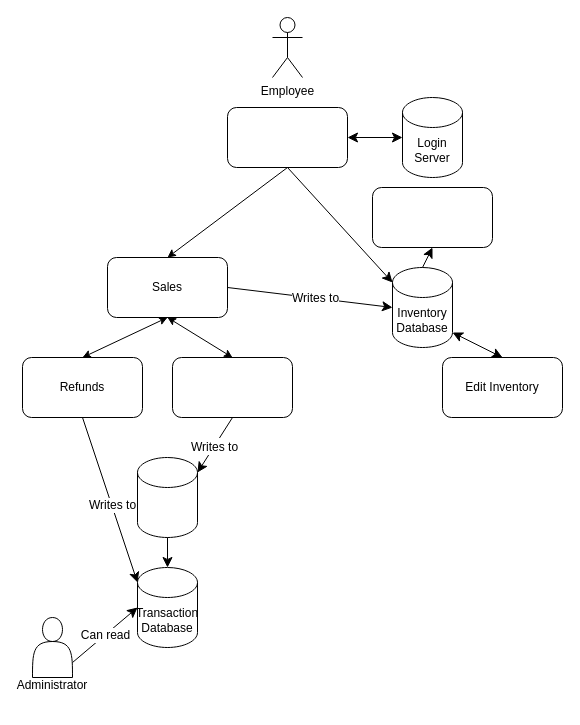
Some shapes in this 580 by 725 pixel diagram are drawn without their labels. The shapes that lost their labels are listed below. From the top down, each one's centre as x and y in pixels, then its label:
At point (287, 137): "Login".
At point (432, 217): "View Inventory".
At point (232, 387): "Purchases".
At point (167, 497): "External CC/Debit Processor".
